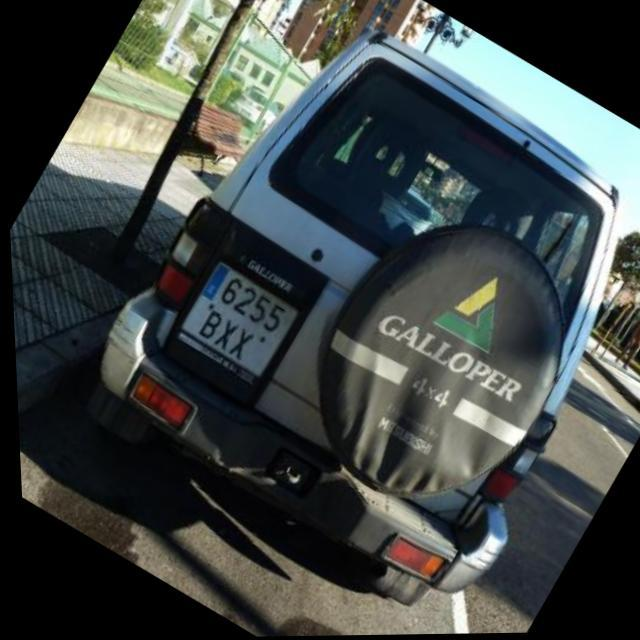license_plate: (167, 258, 302, 389)
